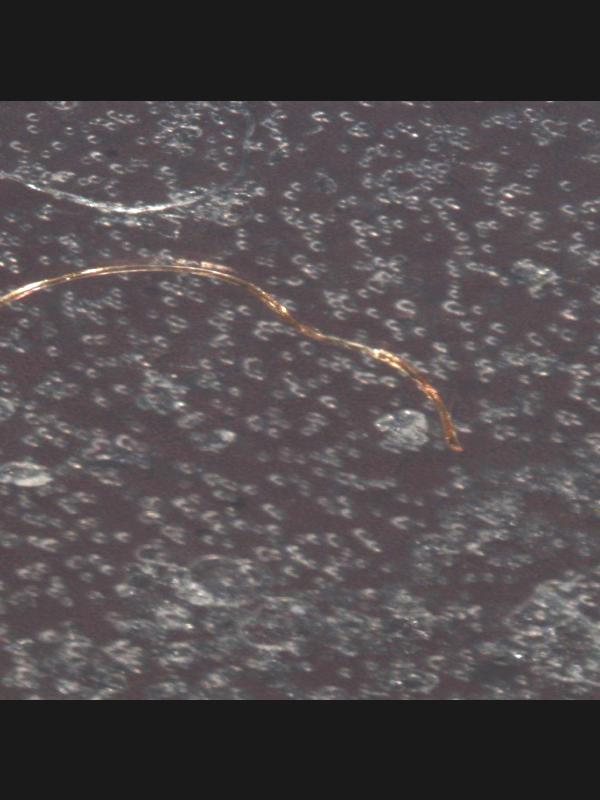microplastic: (0, 101, 600, 698), (0, 261, 470, 453)
